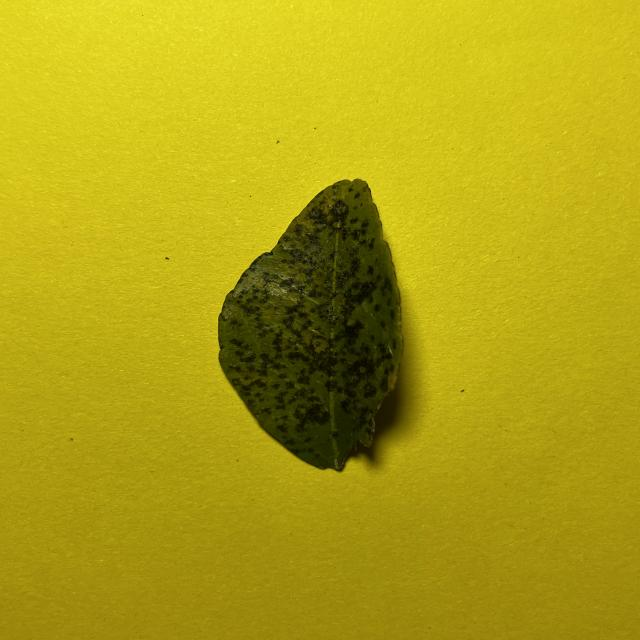sooty_mold: (219, 180, 403, 470)
